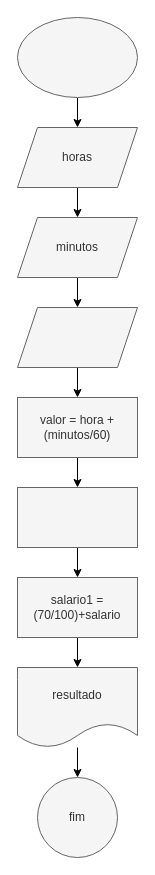
This 155x875 diagram has some shape labels left out. Here are the shapes that lost their labels. From the top down, the centre of each, then its label:
point 77,57: inicio
point 77,337: ganhohora
point 77,517: salario = valor + ganhohora
